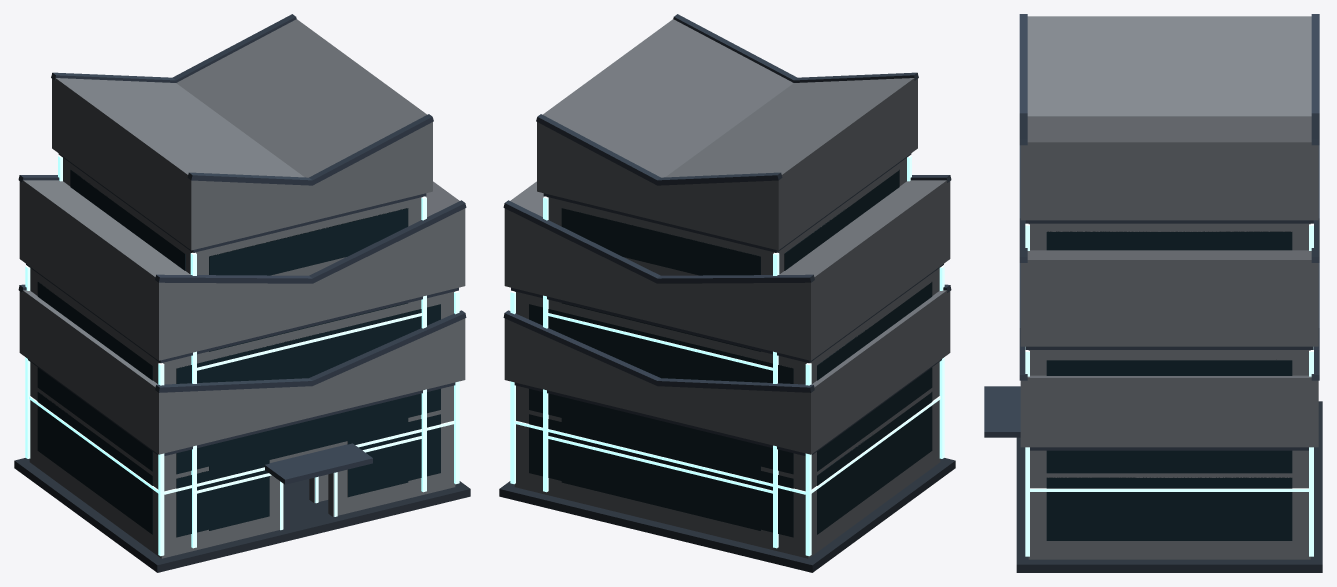
Rendered from shaddai_realm_town_suburb_v01.glb.
The picture shows the model from 3 angles, left to right: view 1: azimuth 30°, elevation 25°; view 2: azimuth 150°, elevation 25°; view 3: azimuth 270°, elevation 25°; orthographic projection. The views are drawn at different scales.
Visible parts, largest first — view 1: shaddai_bld_suburb_apartments, shaddai_bld_suburb_inn, shaddai_bld_suburb_workshop, shaddai_bld_suburb_home; view 2: shaddai_bld_suburb_apartments, shaddai_bld_suburb_inn, shaddai_bld_suburb_workshop; view 3: shaddai_bld_suburb_apartments, shaddai_bld_suburb_inn, shaddai_bld_suburb_workshop.
Boxes of the visible parts, <box> form: shaddai_bld_suburb_apartments: <box>51,14,437,563</box>; shaddai_bld_suburb_inn: <box>14,175,470,572</box>; shaddai_bld_suburb_workshop: <box>18,284,466,558</box>; shaddai_bld_suburb_home: <box>265,444,353,503</box>; shaddai_bld_suburb_apartments: <box>532,14,918,564</box>; shaddai_bld_suburb_inn: <box>499,175,955,572</box>; shaddai_bld_suburb_workshop: <box>503,284,951,558</box>; shaddai_bld_suburb_apartments: <box>984,14,1322,547</box>; shaddai_bld_suburb_inn: <box>1016,145,1322,572</box>; shaddai_bld_suburb_workshop: <box>1019,263,1319,559</box>.
Size of the model in its own units: 19.2 by 22.72 by 16.8.
